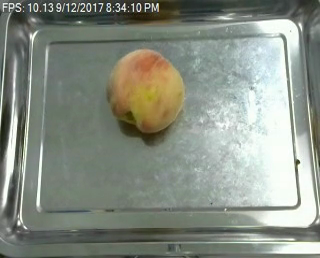Peach: (106, 47, 185, 133)
